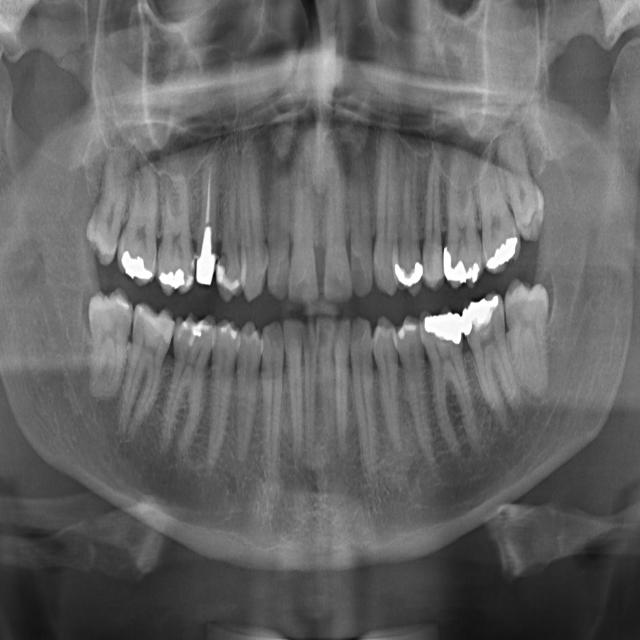AmalgamRestoration: (462, 294, 500, 341), (426, 311, 461, 356), (443, 250, 484, 282), (484, 236, 518, 271), (121, 250, 153, 282), (158, 268, 190, 294), (394, 262, 422, 290)
CompositeResinRestoration: (178, 317, 208, 342), (140, 308, 167, 334), (399, 317, 421, 345), (215, 270, 227, 290)
DentalCaries: (216, 244, 229, 271), (412, 246, 423, 270)
ImpactedTooth: (84, 292, 134, 392), (507, 281, 551, 392)
RootCanalTreatment: (203, 166, 217, 236)
post: (198, 234, 214, 286)
